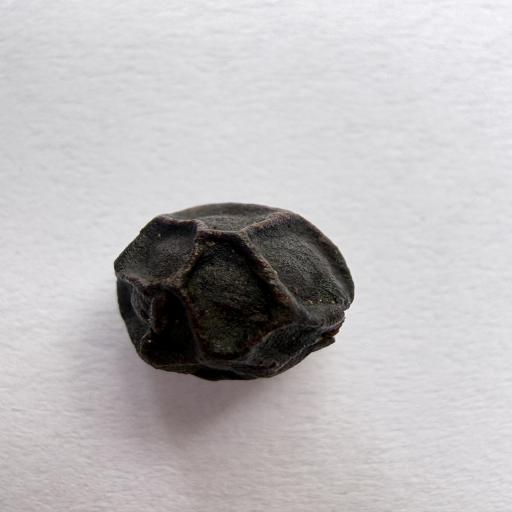Black_pepper: (71, 190, 406, 398)
